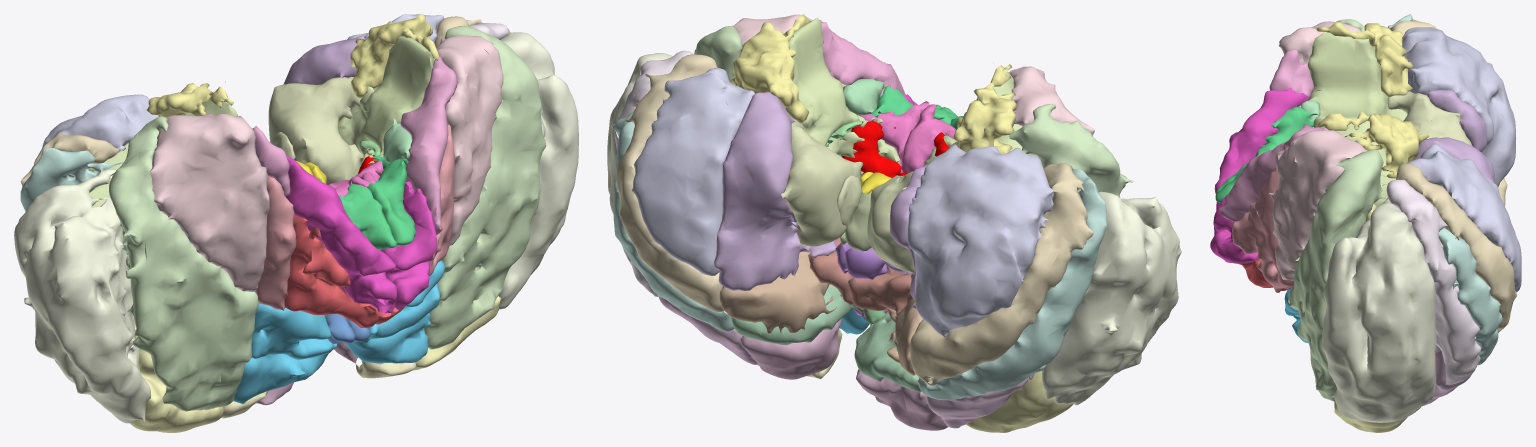
The model's file is cerebellum.glb.
3 renders of one model, left to right at view 1: azimuth 30°, elevation 25°; view 2: azimuth 150°, elevation 25°; view 3: azimuth 270°, elevation 25°, orthographic. The views are drawn at different scales.
Visible parts, largest first — view 1: spl-324, spl-332, spl-358, spl-323, spl-366, spl-357, spl-355, spl-302, spl-315, spl-46, spl-303, spl-347 (+19 smaller); view 2: spl-331, spl-332, spl-365, spl-354, spl-330, spl-329, spl-364, spl-355, spl-46, spl-353, spl-324, spl-356 (+28 smaller); view 3: spl-366, spl-358, spl-331, spl-357, spl-367, spl-7, spl-365, spl-364, spl-363, spl-356, spl-302, spl-348 (+15 smaller).
Boxes of the visible parts, <box> form: spl-324: <box>109,116,259,411</box>; spl-332: <box>14,168,150,423</box>; spl-358: <box>424,26,546,349</box>; spl-323: <box>149,112,269,291</box>; spl-366: <box>498,32,578,309</box>; spl-357: <box>436,35,503,245</box>; spl-355: <box>268,76,363,184</box>; spl-302: <box>285,155,397,313</box>; spl-315: <box>233,290,337,404</box>; spl-46: <box>338,36,434,164</box>; spl-303: <box>284,215,391,328</box>; spl-347: <box>400,56,457,235</box>; spl-331: <box>907,142,1053,337</box>; spl-332: <box>1042,191,1181,405</box>; spl-365: <box>631,68,755,275</box>; spl-354: <box>714,92,836,290</box>; spl-330: <box>910,163,1093,385</box>; spl-329: <box>917,169,1107,400</box>; spl-364: <box>616,54,723,311</box>; spl-355: <box>781,116,862,246</box>; spl-46: <box>788,17,900,163</box>; spl-353: <box>719,251,841,334</box>; spl-324: <box>1009,104,1134,197</box>; spl-356: <box>729,14,810,123</box>; spl-366: <box>1321,198,1436,422</box>; spl-358: <box>1288,149,1386,401</box>; spl-331: <box>1402,27,1516,187</box>; spl-357: <box>1269,130,1367,280</box>; spl-367: <box>1386,179,1481,384</box>; spl-7: <box>1298,21,1407,127</box>; spl-365: <box>1406,144,1521,292</box>; spl-364: <box>1396,163,1517,332</box>; spl-363: <box>1438,228,1502,365</box>; spl-356: <box>1316,111,1429,178</box>; spl-302: <box>1213,87,1308,235</box>; spl-348: <box>1232,168,1294,292</box>.
Size of the model in its own units: 107 by 66.24 by 57.68.
